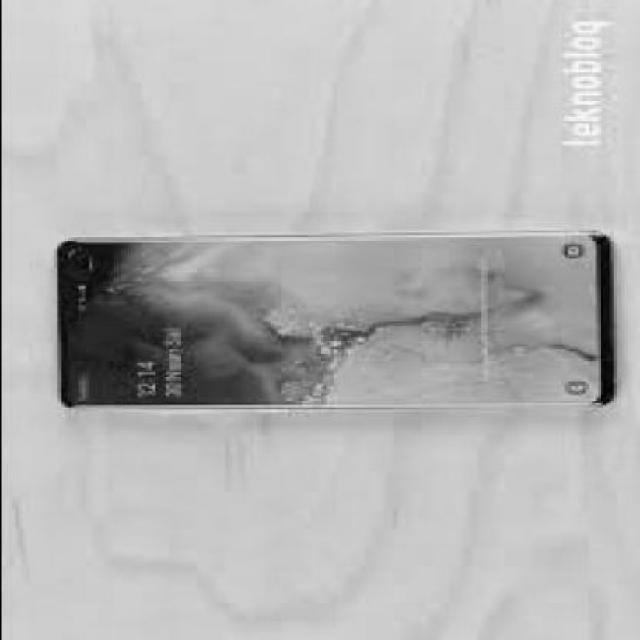fake: (50, 228, 616, 409)
